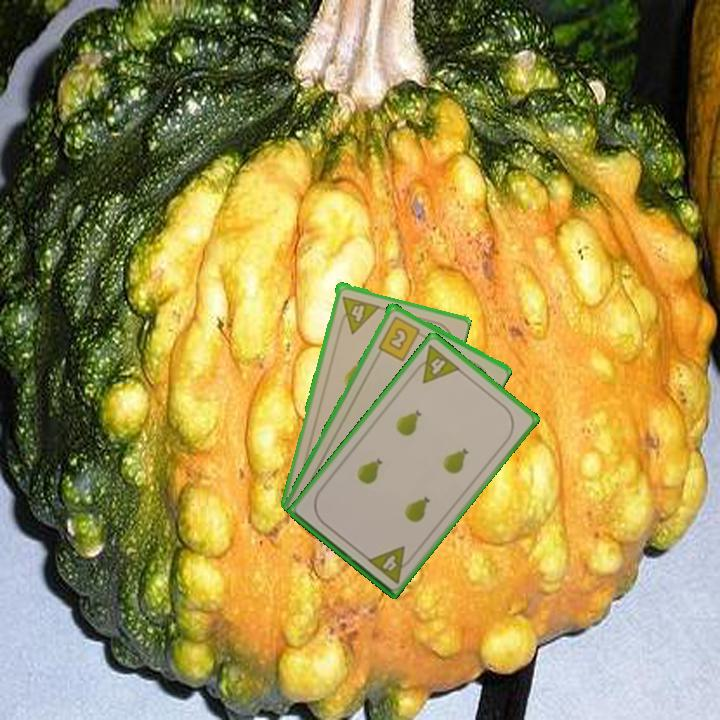2b: (375, 312, 427, 363)
4p: (409, 341, 463, 386), (364, 542, 417, 587), (335, 293, 381, 335)
